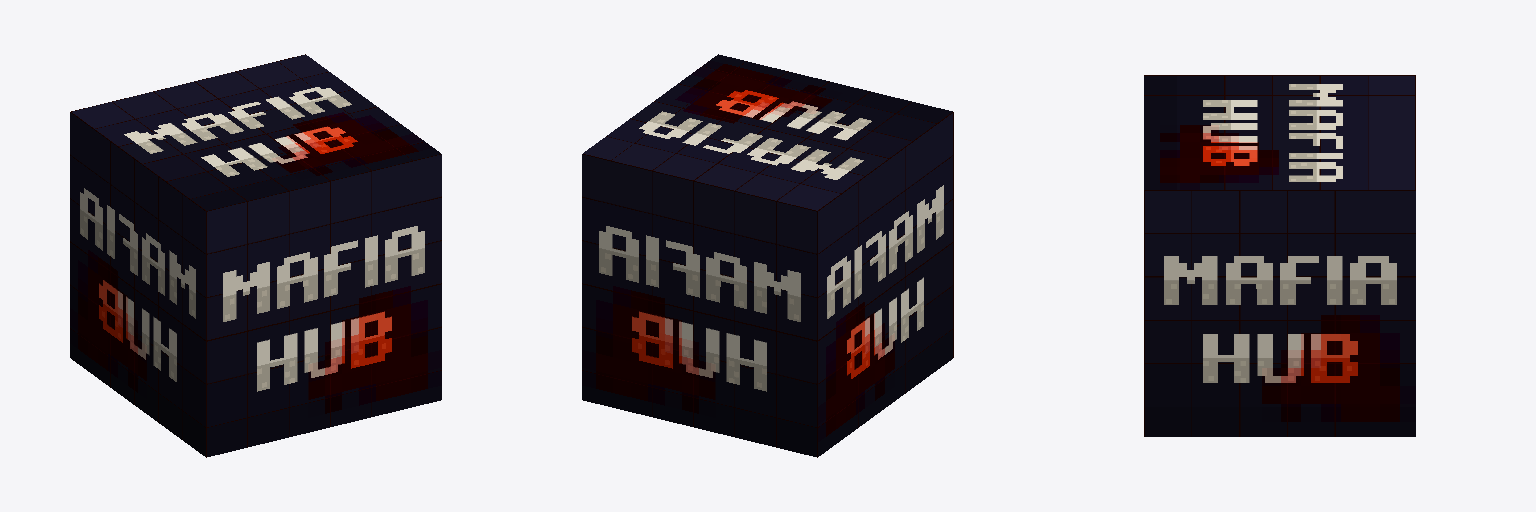
3 views of the same model, side by side, from view 1: azimuth 30°, elevation 25°; view 2: azimuth 150°, elevation 25°; view 3: azimuth 270°, elevation 25° (orthographic).
Parts seen in each view (by area): view 1: Cube; view 2: Cube; view 3: Cube.
Part boxes in pixels (left/top/right/bottom): Cube: left=70, top=54, right=441, bottom=457; Cube: left=582, top=54, right=953, bottom=457; Cube: left=1144, top=75, right=1415, bottom=436.
Bounding box in the file's own units: 2 × 2 × 2.
1 materials, 1 textured.